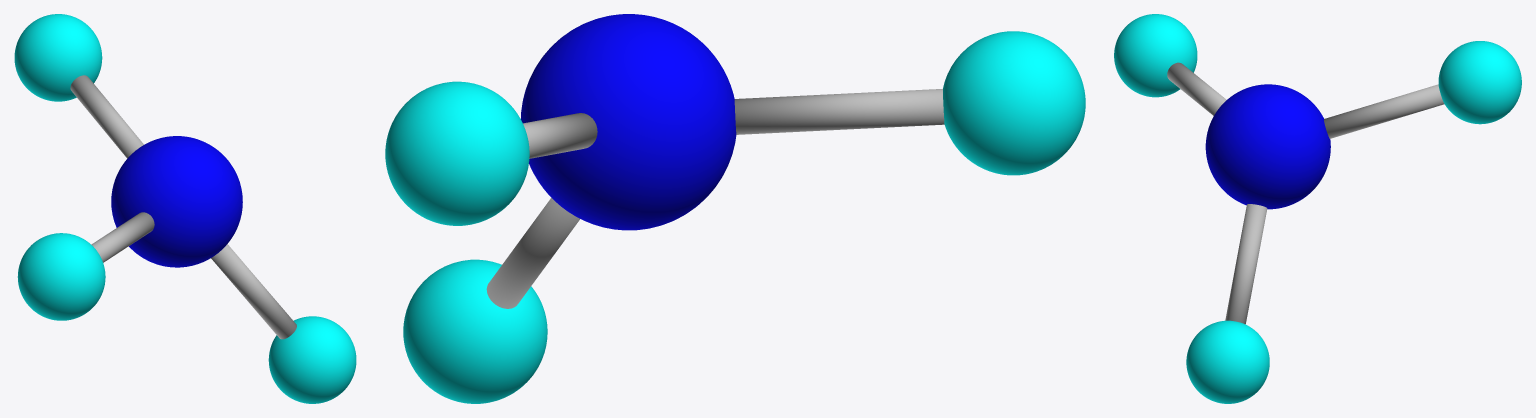
File: NH₃.glb
3 renders of one model, left to right at view 1: azimuth 30°, elevation 25°; view 2: azimuth 150°, elevation 25°; view 3: azimuth 270°, elevation 25°, orthographic. The views are drawn at different scales.
Parts seen in each view (by area): view 1: CMAtom_0; view 2: CMAtom_0; view 3: CMAtom_0.
Boxes of the visible parts, <box> form: CMAtom_0: <box>14,14,356,403</box>; CMAtom_0: <box>385,14,1085,403</box>; CMAtom_0: <box>1114,14,1521,403</box>.
Size of the model in its own units: 0.1921 by 0.1582 by 0.1956.
